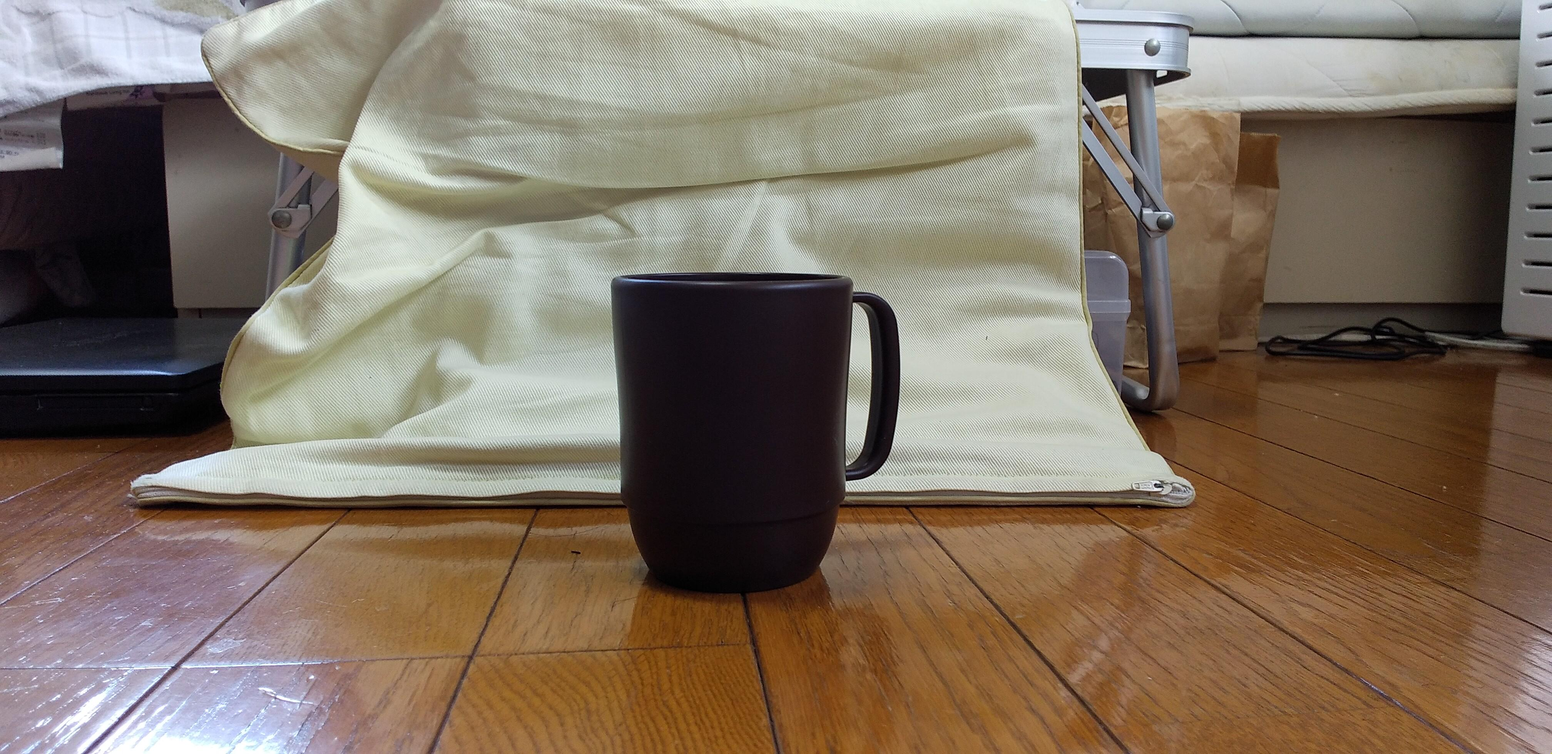mug-real100-3d100: (612, 273, 900, 592)
